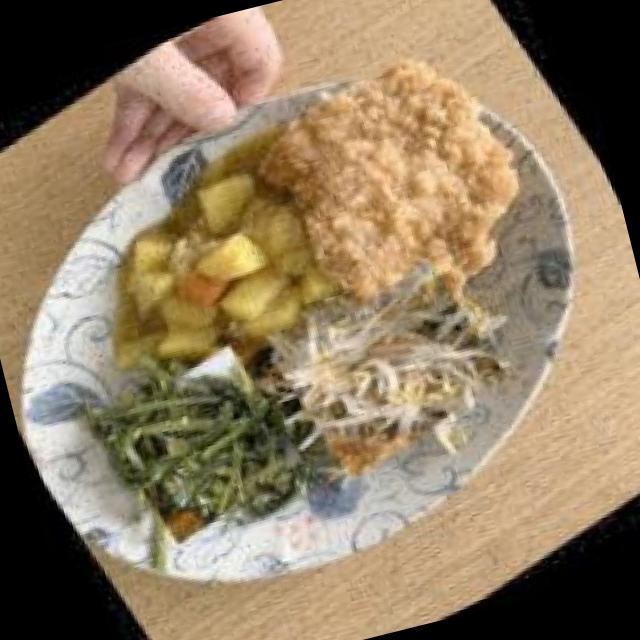curry: (33, 124, 370, 436)
fried_chicken: (234, 14, 558, 336)
mung_bean_sprouts: (252, 242, 528, 497)
water_spinach: (84, 328, 324, 560)
